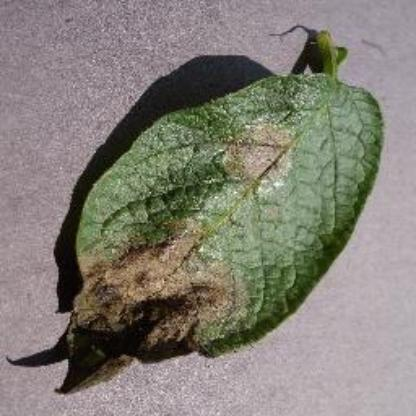Late-Blight: (55, 22, 376, 394)
